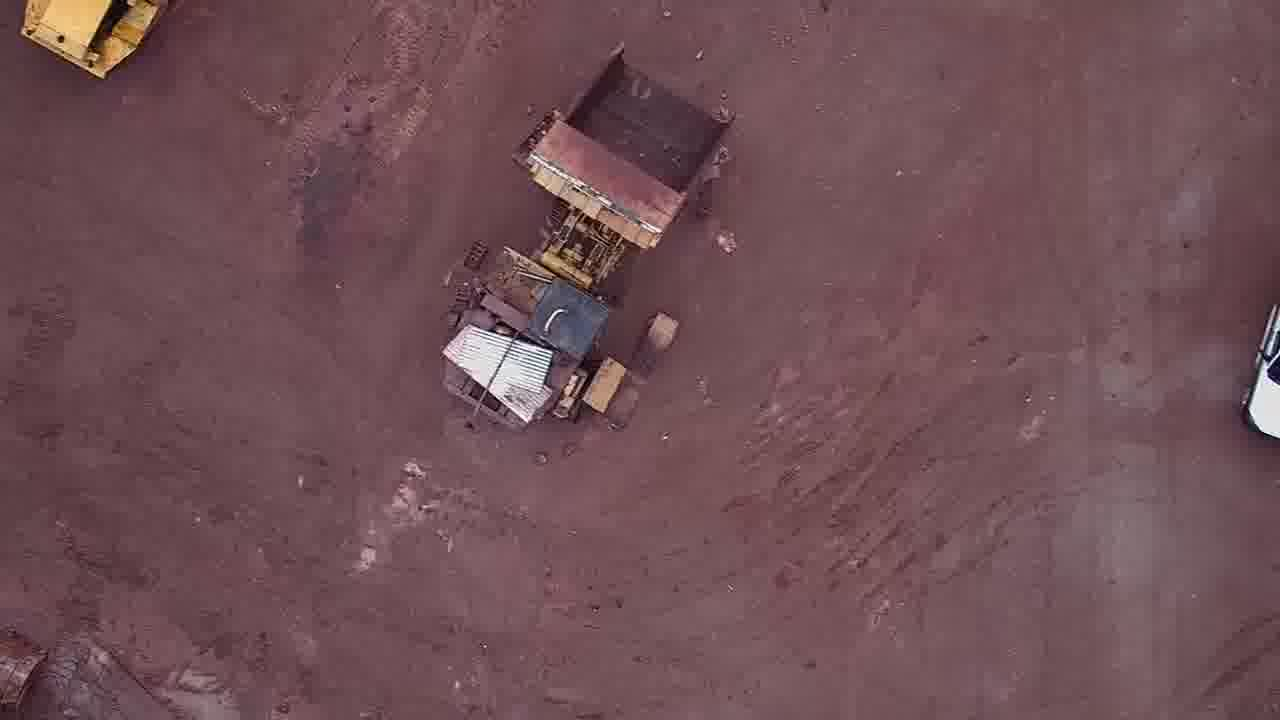heavy_motor_vehicle: (439, 42, 736, 435)
